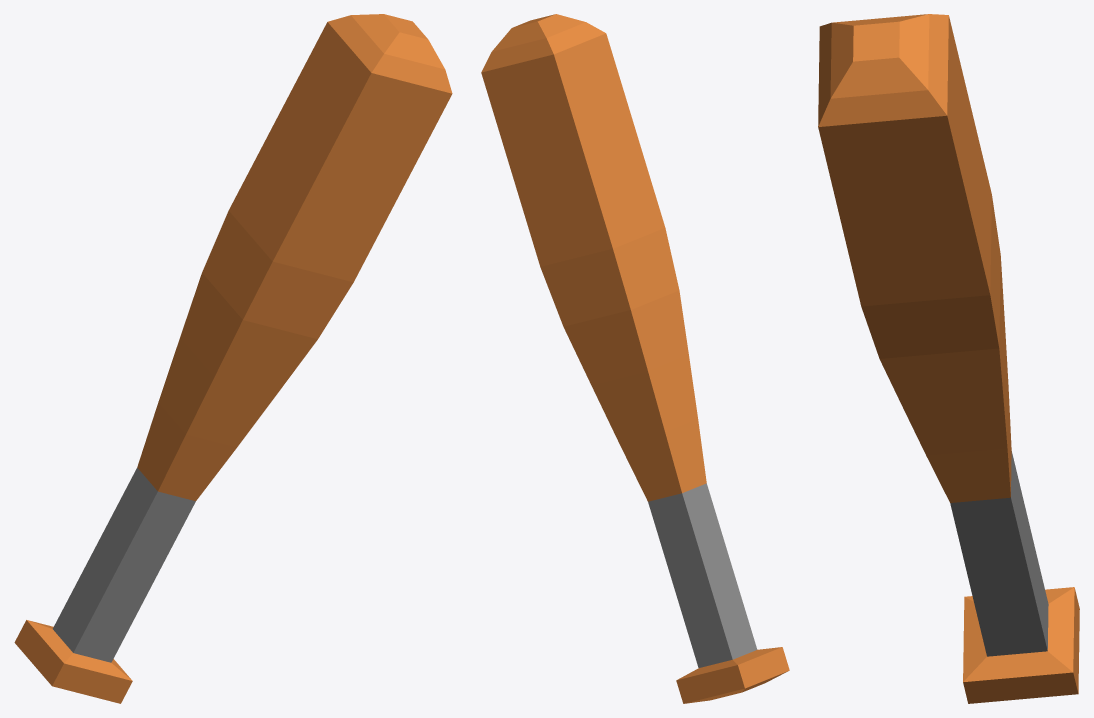
File: greek.gltf
3 views of the same model, side by side, from view 1: azimuth 30°, elevation 25°; view 2: azimuth 150°, elevation 25°; view 3: azimuth 270°, elevation 25° (orthographic). The views are drawn at different scales.
Parts seen in each view (by area): view 1: Cube; view 2: Cube; view 3: Cube.
Part boxes in pixels (<box>): Cube: <box>14,14,452,703</box>; Cube: <box>481,14,789,703</box>; Cube: <box>818,14,1079,703</box>.
Size of the model in its own units: 0.0528 by 0.0946 by 0.0271.
